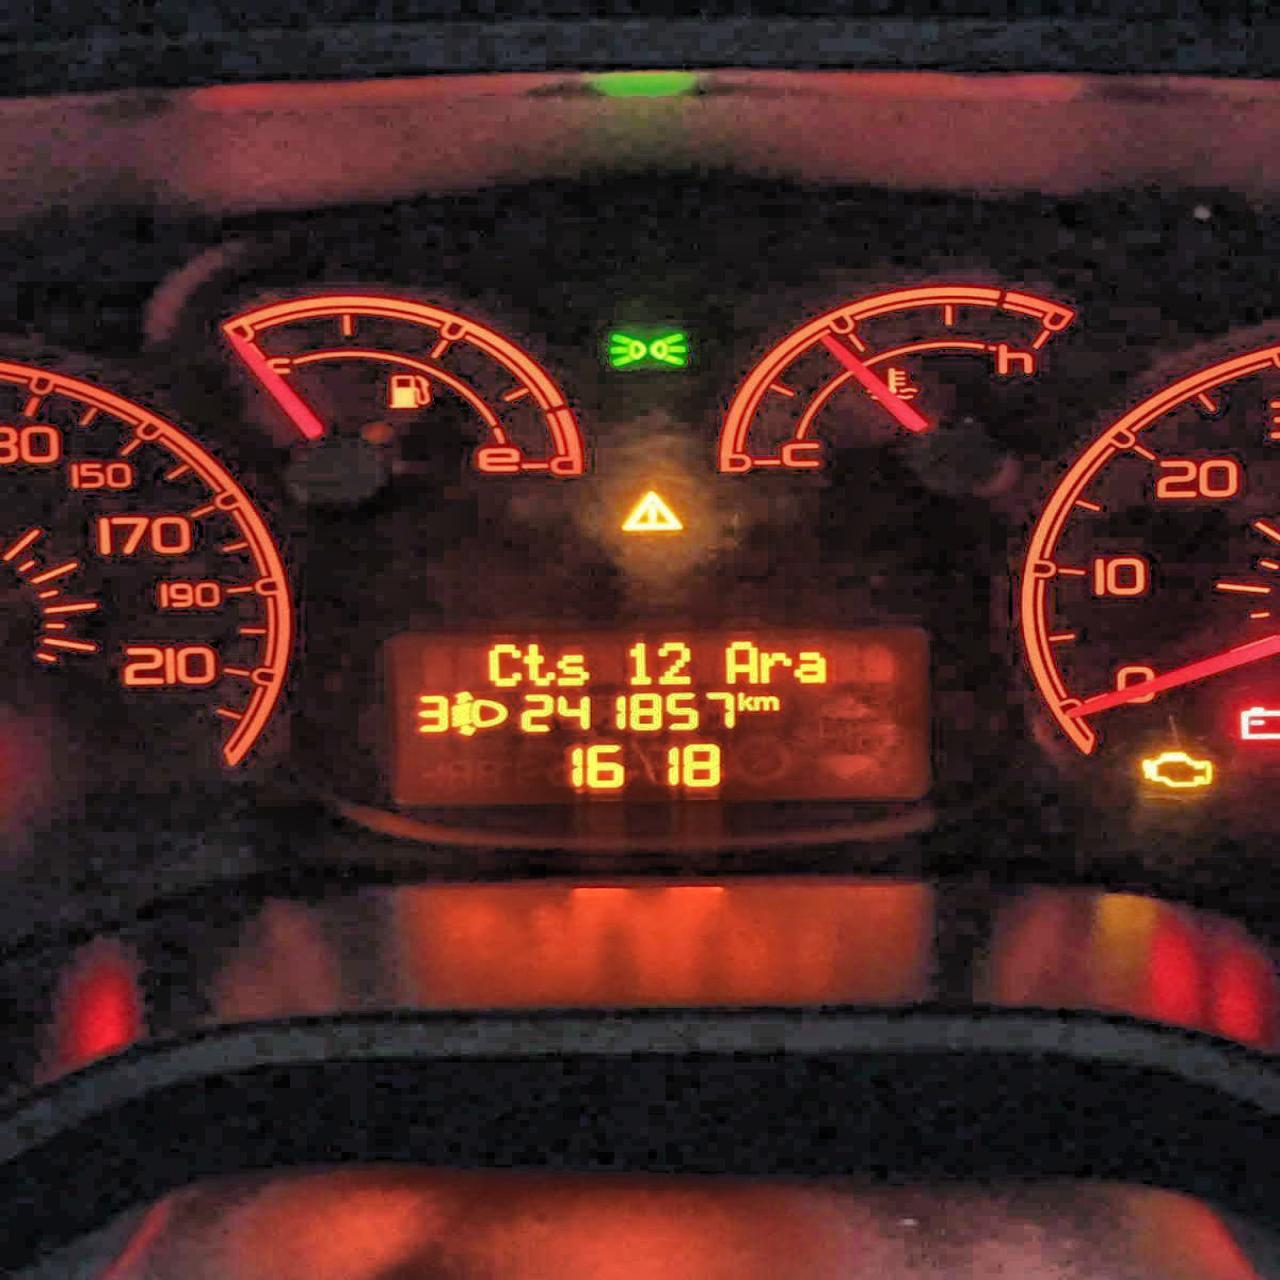1: (621, 639, 654, 688), (660, 742, 680, 788), (565, 743, 583, 788), (608, 692, 627, 730)
2: (654, 640, 693, 686), (518, 693, 553, 734)
3: (415, 693, 451, 734)
4: (554, 694, 592, 733)
5: (665, 689, 700, 731)
6: (585, 741, 627, 790)
7: (703, 689, 735, 729)
8: (679, 741, 722, 789), (628, 690, 663, 731)
X: (717, 639, 757, 685), (484, 641, 522, 688), (520, 641, 553, 688), (554, 651, 591, 688), (791, 649, 828, 685), (760, 649, 791, 685), (754, 692, 778, 712), (735, 689, 754, 712)
odometer: (380, 618, 938, 816)
